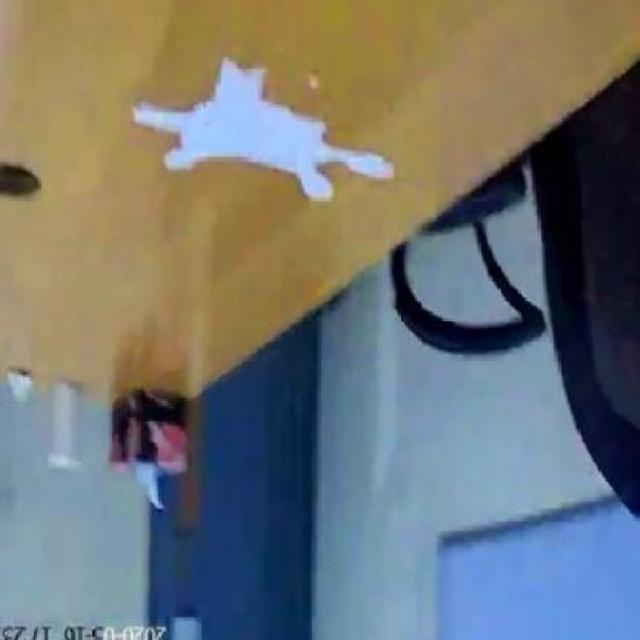spillage: (131, 53, 400, 202)
